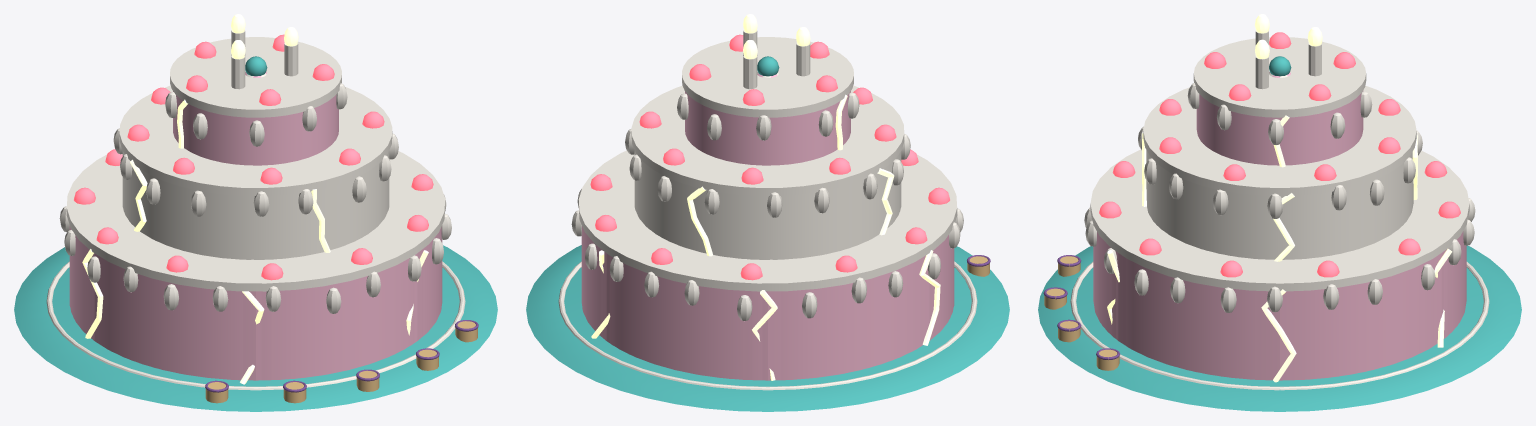
The model's file is ESC_CandyForest.fbx.
3 renders of one model, left to right at view 1: azimuth 30°, elevation 25°; view 2: azimuth 150°, elevation 25°; view 3: azimuth 270°, elevation 25°, orthographic.
Parts seen in each view (by area): view 1: Cake_Intact, Body, Cake_Shard_04, Cake_Shard_05, Cake_Shard_09, Cake_Cracks, Cake_Shard_06, Cake_Shard_03, Cake_Shard_10; view 2: Cake_Intact, Body, Cake_Shard_03, Cake_Shard_02, Cake_Cracks, Cake_Shard_08, Cake_Shard_01, Cake_Shard_04, Cake_Shard_07; view 3: Cake_Intact, Body, Cake_Shard_01, Cake_Shard_06, Cake_Cracks, Cake_Shard_07, Cake_Shard_10, Cake_Shard_05, Cake_Shard_02.
Part boxes in pixels (bbox=[...]): Cake_Intact: bbox=[59, 14, 451, 380]; Body: bbox=[14, 245, 497, 411]; Cake_Shard_04: bbox=[94, 253, 255, 380]; Cake_Shard_05: bbox=[256, 253, 417, 380]; Cake_Shard_09: bbox=[154, 177, 300, 259]; Cake_Cracks: bbox=[82, 99, 428, 384]; Cake_Shard_06: bbox=[417, 228, 442, 340]; Cake_Shard_03: bbox=[70, 228, 94, 340]; Cake_Shard_10: bbox=[342, 151, 389, 246]; Cake_Intact: bbox=[571, 14, 963, 380]; Body: bbox=[526, 245, 1009, 411]; Cake_Shard_03: bbox=[768, 255, 929, 380]; Cake_Shard_02: bbox=[606, 253, 767, 380]; Cake_Cracks: bbox=[591, 94, 940, 380]; Cake_Shard_08: bbox=[723, 184, 869, 259]; Cake_Shard_01: bbox=[581, 226, 606, 340]; Cake_Shard_04: bbox=[929, 235, 953, 340]; Cake_Shard_07: bbox=[634, 151, 681, 246]; Cake_Intact: bbox=[1084, 14, 1475, 379]; Body: bbox=[1038, 245, 1521, 411]; Cake_Shard_01: bbox=[1280, 253, 1441, 380]; Cake_Shard_06: bbox=[1118, 253, 1279, 380]; Cake_Cracks: bbox=[1107, 115, 1452, 382]; Cake_Shard_07: bbox=[1303, 154, 1411, 258]; Cake_Shard_10: bbox=[1148, 154, 1256, 258]; Cake_Shard_05: bbox=[1093, 232, 1118, 340]; Cake_Shard_02: bbox=[1441, 232, 1466, 334].
Bounding box in the file's own units: 19.2 × 15.73 × 19.2.
